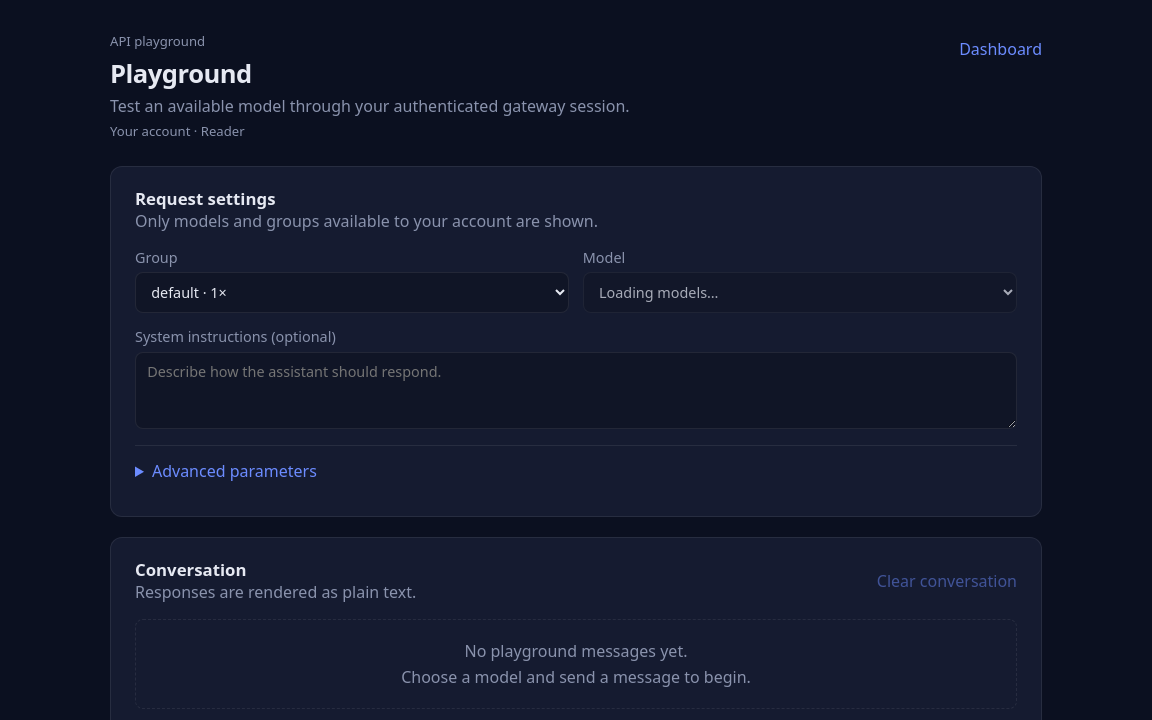
PlaygroundView › aborts an obsolete model request and ignores its late result after a group change
Select "vip · 2×" in the dropdown labelled "Group" at x=352, y=293, box [135,272,569,313]
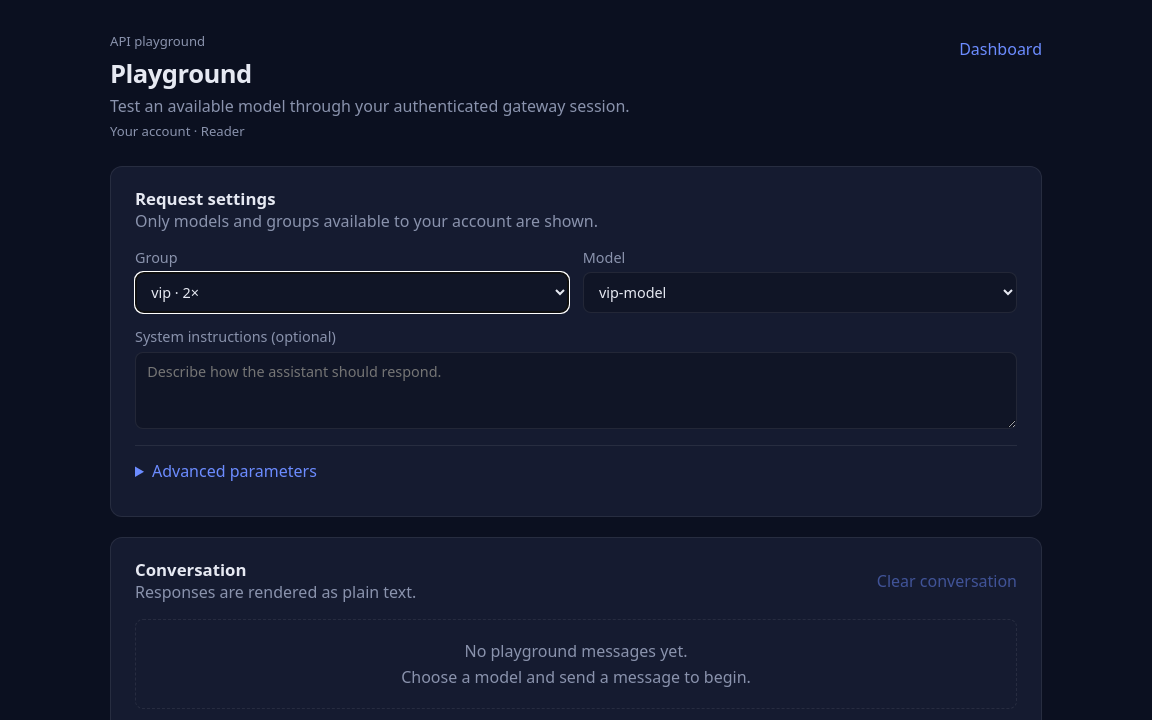
Now the dropdown labelled "Model" shows "vip-model", box [583,272,1017,313]
